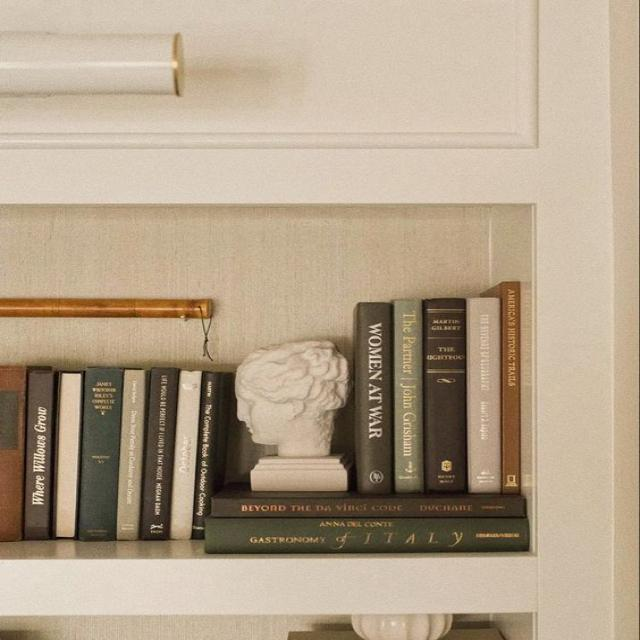book: (205, 519, 528, 551), (210, 492, 525, 518), (77, 366, 124, 540), (423, 300, 465, 493), (483, 281, 520, 494), (353, 303, 393, 494), (140, 368, 177, 539), (468, 298, 499, 493), (23, 367, 57, 539), (393, 301, 423, 492), (170, 371, 201, 539), (116, 369, 145, 539), (54, 372, 81, 539), (193, 373, 220, 539), (0, 366, 25, 540)
